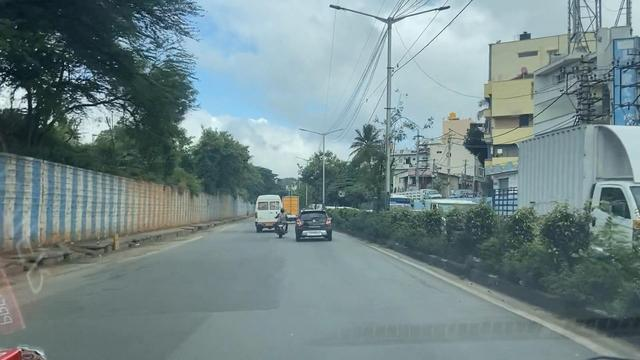LMV: (296, 209, 332, 241), (277, 208, 290, 240)
